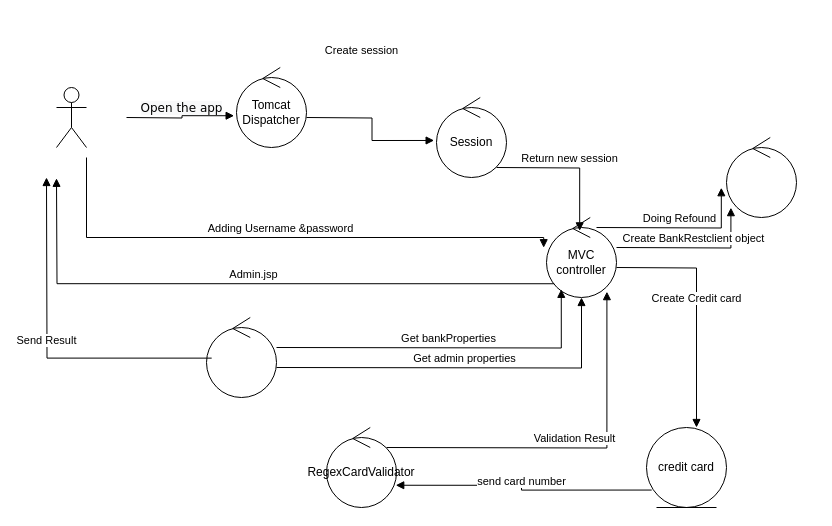
Image size: 832x526. Some labels were removed from this diagram. The shapes that lost their labels are listed below. From the top down, each one's centre as x and y in pixels, then its label:
At [71,117]: "Admin".
At [761,177]: "BankRestClientImpl".
At [241,357]: "PropertiesDAO".
